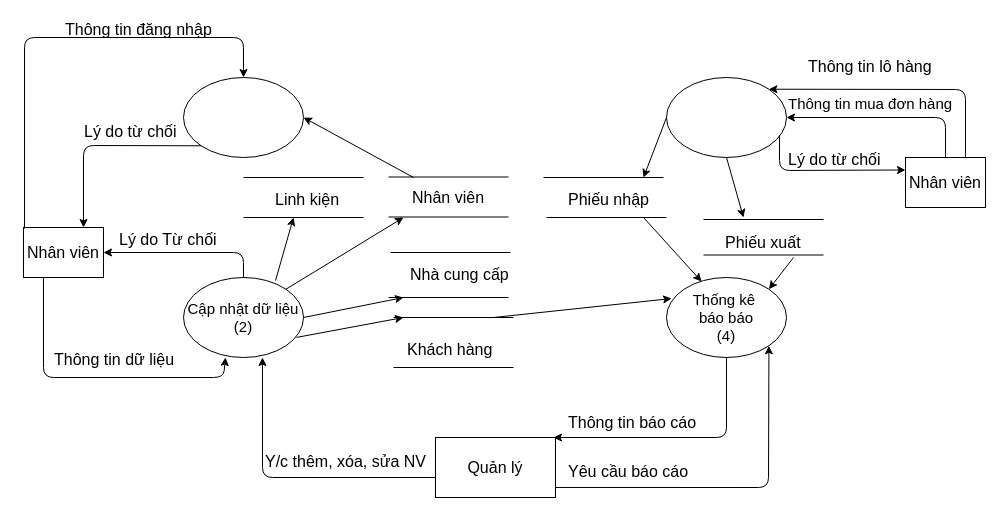
This 1003x515 diagram has some shape labels left out. The shapes that lost their labels are listed below. From the top down, each one's centre as x and y in pixels, then its label:
At point (243, 117): "Quản lý hệ thống (1)".
At point (726, 117): "Lập phiếu (3)".
